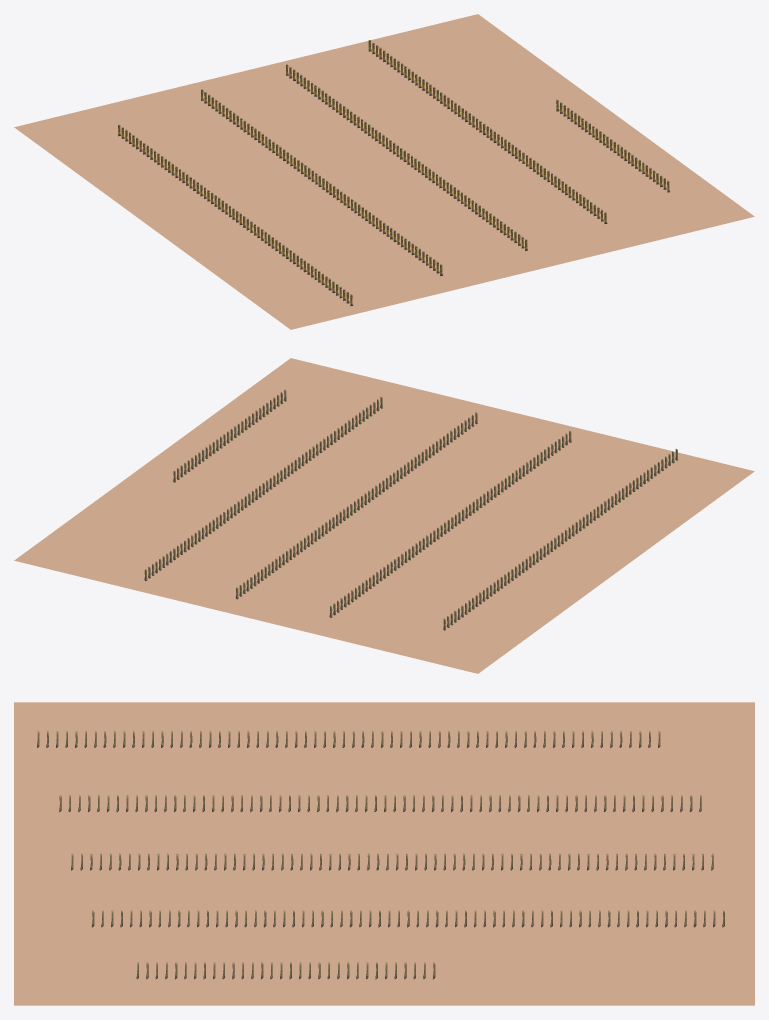
The model's file is 300ver.obj.
The picture shows the model from 3 angles, top to bottom: view 1: azimuth 30°, elevation 25°; view 2: azimuth 150°, elevation 25°; view 3: azimuth 270°, elevation 25°; orthographic projection. The views are drawn at different scales.
Parts seen in each view (by area): view 1: Plane001; view 2: Plane001; view 3: Plane001.
Boxes of the visible parts, bbox=[...] form: Plane001: bbox=[14, 14, 754, 329]; Plane001: bbox=[14, 358, 754, 673]; Plane001: bbox=[14, 702, 754, 1005].
Bounding box in the file's own units: 42939 × 1046 × 44370.
